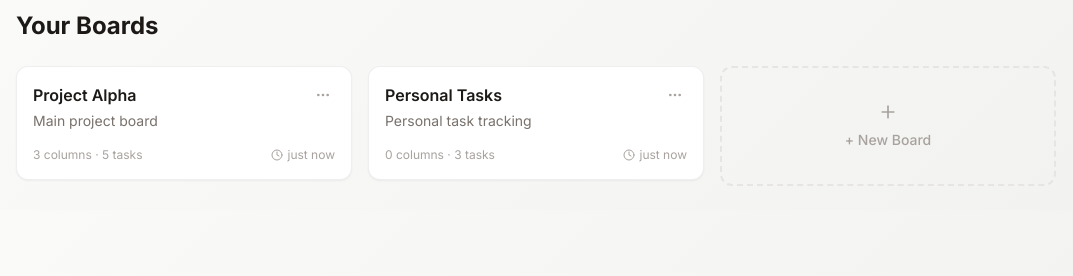
Test case: BoardList › inline board creation › enables create button when name is entered
expect the heading "Project Alpha" is shown: met, box [33,85,136,105]
Click the button with test id "ghost-card". click: (888, 140)
box: [720,66,1056,186]
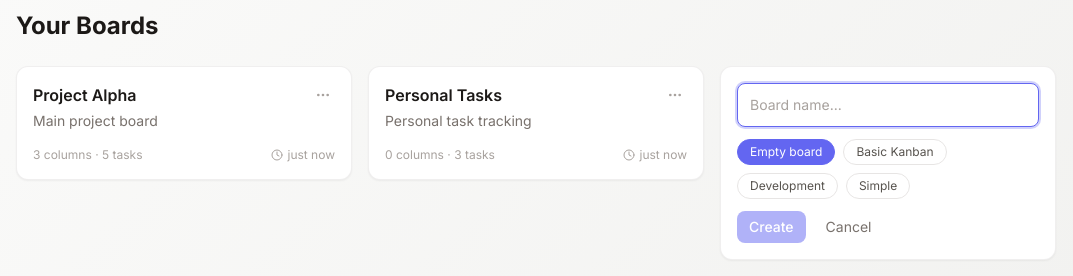
Type "New Board" into the field with placeholder "Board name...". click: (888, 105)
box: [737,83,1039,127]
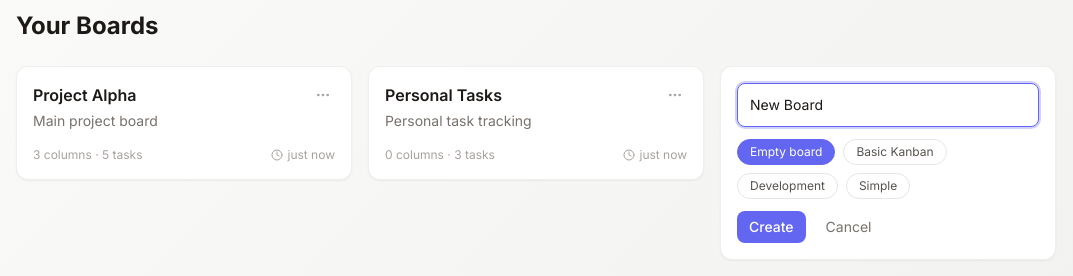
expect the button "Create" is enabled: met, box [737,211,806,243]
